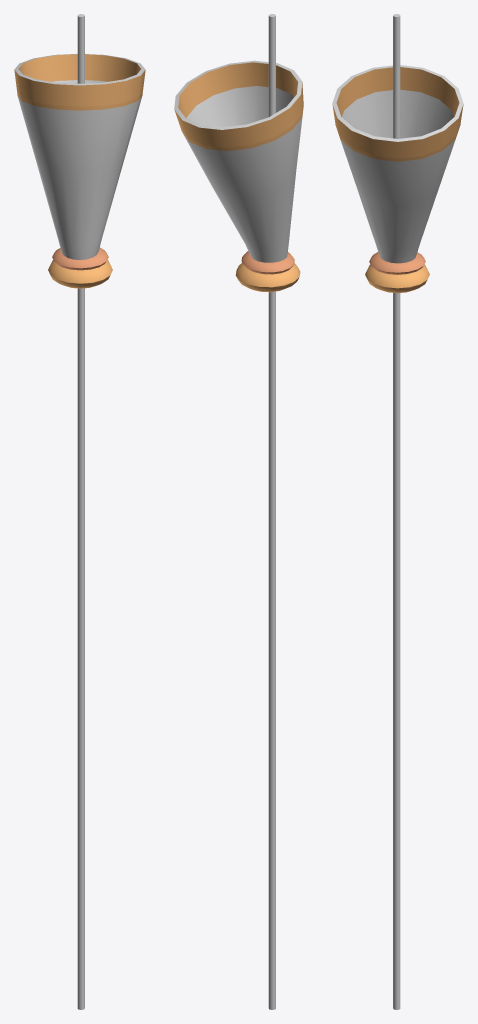
Rendered from Assen 3.fbx.
The picture shows the model from 3 angles, left to right: view 1: azimuth 90°, elevation 25°; view 2: azimuth 210°, elevation 25°; view 3: azimuth 270°, elevation 25°; orthographic projection.
Visible parts, largest first — view 1: Cylinder.005; view 2: Cylinder.005; view 3: Cylinder.005.
Boxes of the visible parts, x1,y1,x2,y2 form: Cylinder.005: (14, 14, 145, 1009); Cylinder.005: (174, 14, 303, 1009); Cylinder.005: (332, 14, 463, 1009).
Bounding box in the file's own units: 109 × 905 × 108.
